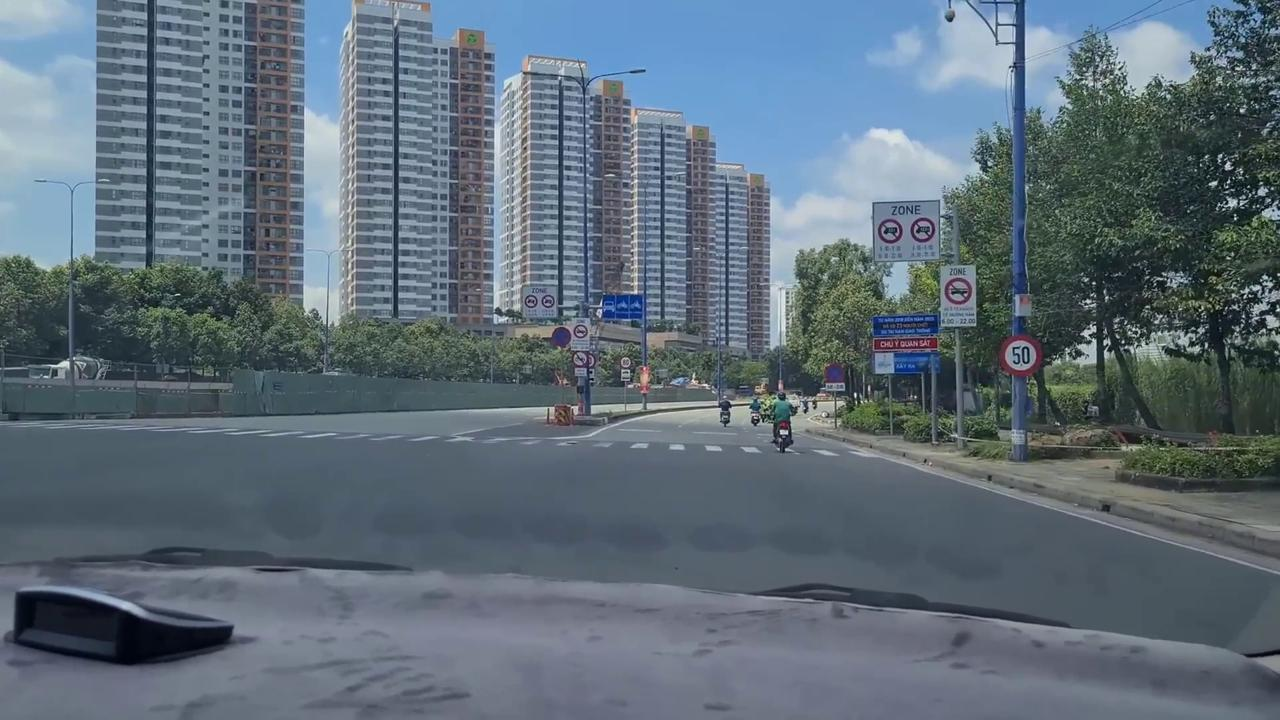Biển phụ: (622, 369, 630, 383)
Cấm cac phương tiện hoạt động trong khung giờ cố định: (870, 198, 941, 263), (938, 263, 978, 327), (519, 284, 561, 320), (571, 317, 591, 352)
Cấm dừng - Cấm đỗ: (823, 361, 846, 384), (551, 325, 572, 348)
Cấm xe máy: (570, 350, 590, 368)
Giới hạn tốc độ 50Km/h: (997, 331, 1044, 379)
Giới hạn tốc độ 80Km/h: (618, 354, 634, 369)
Khác: (871, 313, 941, 378)
Làn đường cho từng xe: (600, 291, 644, 322)
